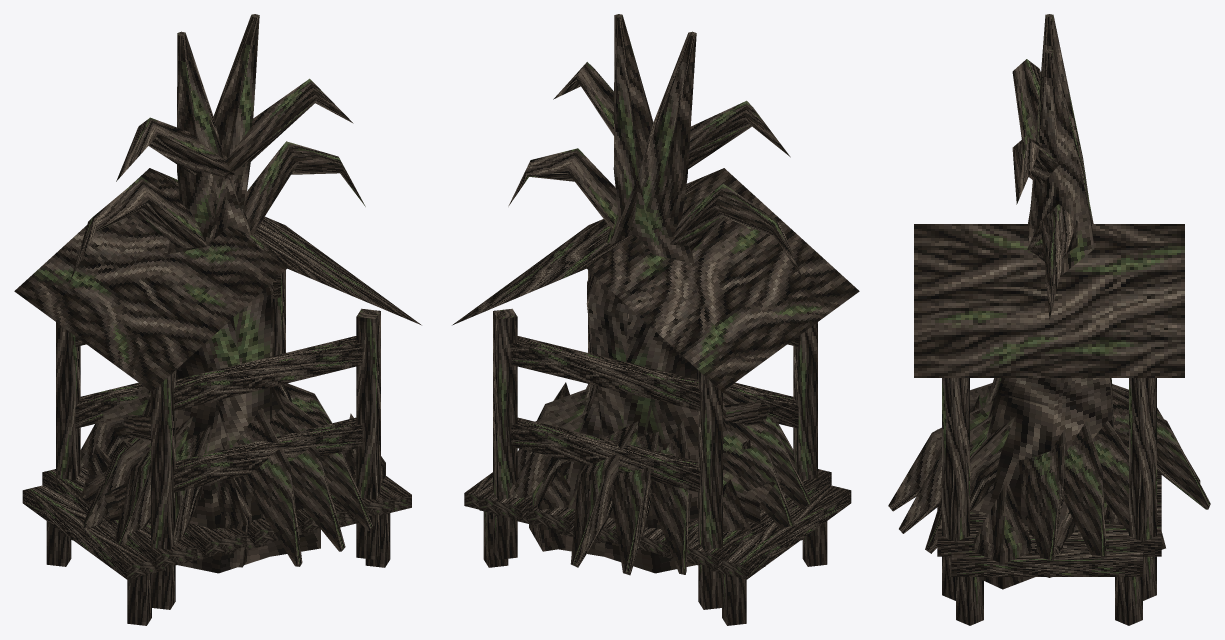
File: swamp_v1_kit.glb
3 renders of one model, left to right at view 1: azimuth 30°, elevation 25°; view 2: azimuth 150°, elevation 25°; view 3: azimuth 270°, elevation 25°, orthographic.
Parts seen in each view (by area): view 1: swamp_shelter, swamp_tree_b, swamp_tree_a, swamp_walkway, swamp_tree_c, swamp_roots, swamp_fence, swamp_log; view 2: swamp_shelter, swamp_tree_b, swamp_tree_a, swamp_walkway, swamp_tree_c, swamp_roots, swamp_fence, swamp_log; view 3: swamp_shelter, swamp_tree_a, swamp_tree_b, swamp_walkway, swamp_tree_c, swamp_roots, swamp_log.
Part boxes in pixels (x1=…): swamp_shelter: x1=14, y1=168, x2=421, y2=609; swamp_tree_b: x1=115, y1=31, x2=365, y2=573; swamp_tree_a: x1=71, y1=14, x2=353, y2=566; swamp_walkway: x1=22, y1=476, x2=411, y2=625; swamp_tree_c: x1=80, y1=392, x2=372, y2=570; swamp_roots: x1=66, y1=413, x2=385, y2=567; swamp_fence: x1=109, y1=414, x2=150, y2=511; swamp_log: x1=85, y1=471, x2=126, y2=527; swamp_shelter: x1=452, y1=168, x2=859, y2=609; swamp_tree_b: x1=508, y1=31, x2=811, y2=575; swamp_tree_a: x1=537, y1=14, x2=802, y2=567; swamp_walkway: x1=464, y1=472, x2=851, y2=625; swamp_tree_c: x1=495, y1=388, x2=796, y2=574; swamp_roots: x1=529, y1=382, x2=765, y2=566; swamp_fence: x1=724, y1=400, x2=785, y2=490; swamp_log: x1=723, y1=469, x2=786, y2=532; swamp_shelter: x1=914, y1=224, x2=1184, y2=600; swamp_tree_a: x1=888, y1=49, x2=1210, y2=577; swamp_tree_b: x1=899, y1=14, x2=1200, y2=556; swamp_walkway: x1=951, y1=552, x2=1142, y2=625; swamp_tree_c: x1=925, y1=383, x2=1154, y2=559; swamp_roots: x1=972, y1=395, x2=1165, y2=589; swamp_log: x1=1025, y1=499, x2=1077, y2=554.
Size of the model in its own units: 72 by 125 by 69.05.
1 material, 1 textured.
